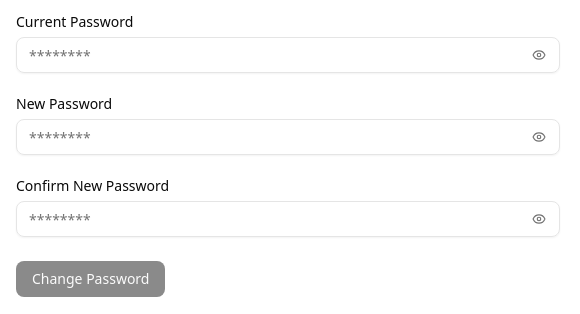
it: ChangePasswordForm › enables submit button when form is modified
This screenshot has width=580, height=314.
Type "oldpassword" into the password field labelled "Current Password" at (271, 55), box [17,37,524,73]
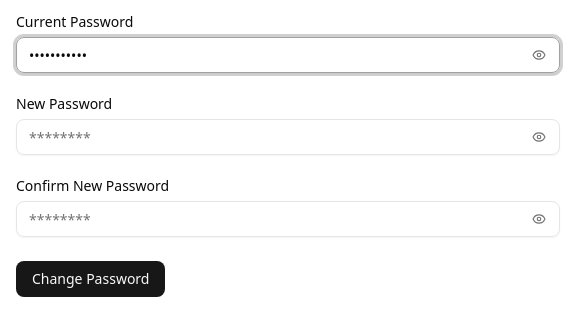
Result: the button "Change Password" is enabled at [16,261,166,297]
